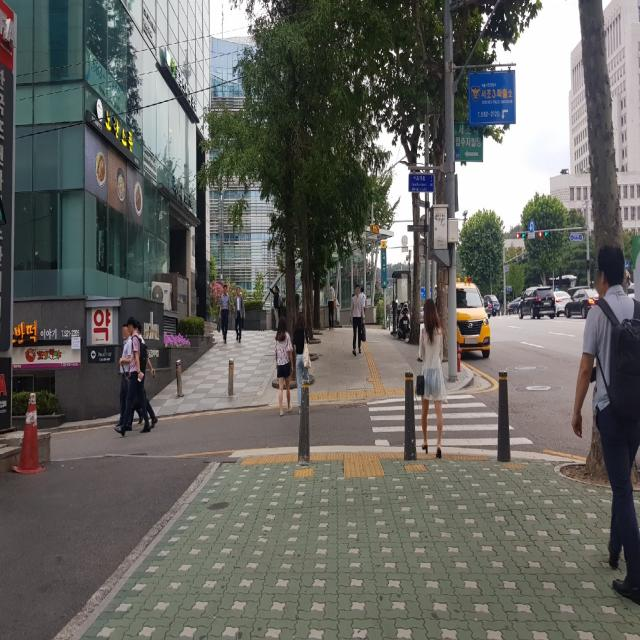횡단보도: (367, 394, 533, 446)
